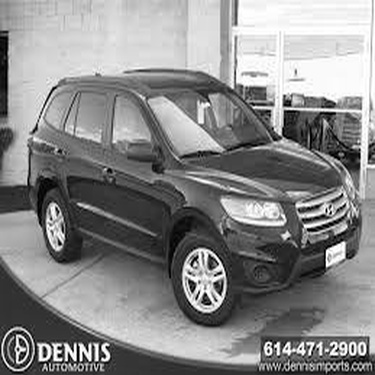car: (31, 57, 369, 315)
